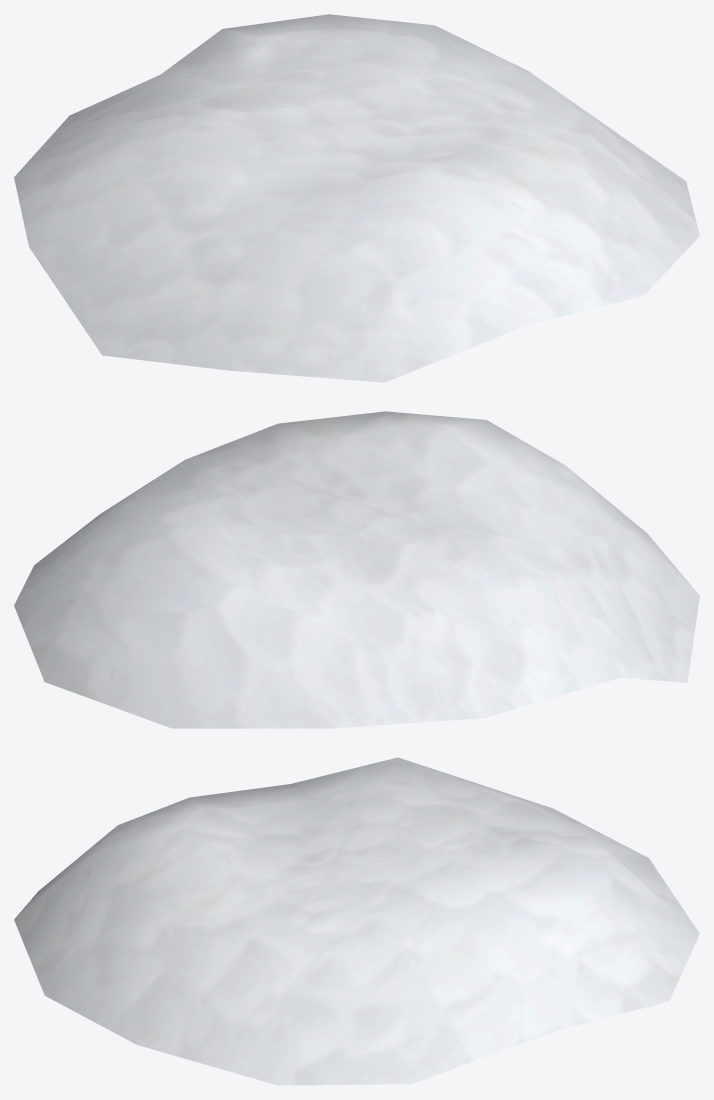
Rendered from snow09.fbx.
3 views of the same model, one above another, from view 1: azimuth 30°, elevation 25°; view 2: azimuth 150°, elevation 25°; view 3: azimuth 270°, elevation 25° (orthographic). The views are drawn at different scales.
Visible parts, largest first — view 1: snow09; view 2: snow09; view 3: snow09.
Boxes of the visible parts, bbox=[...] form: snow09: bbox=[14, 14, 699, 382]; snow09: bbox=[14, 411, 699, 728]; snow09: bbox=[14, 757, 699, 1085].
Bounding box in the file's own units: 31.06 × 7.62 × 32.42.
